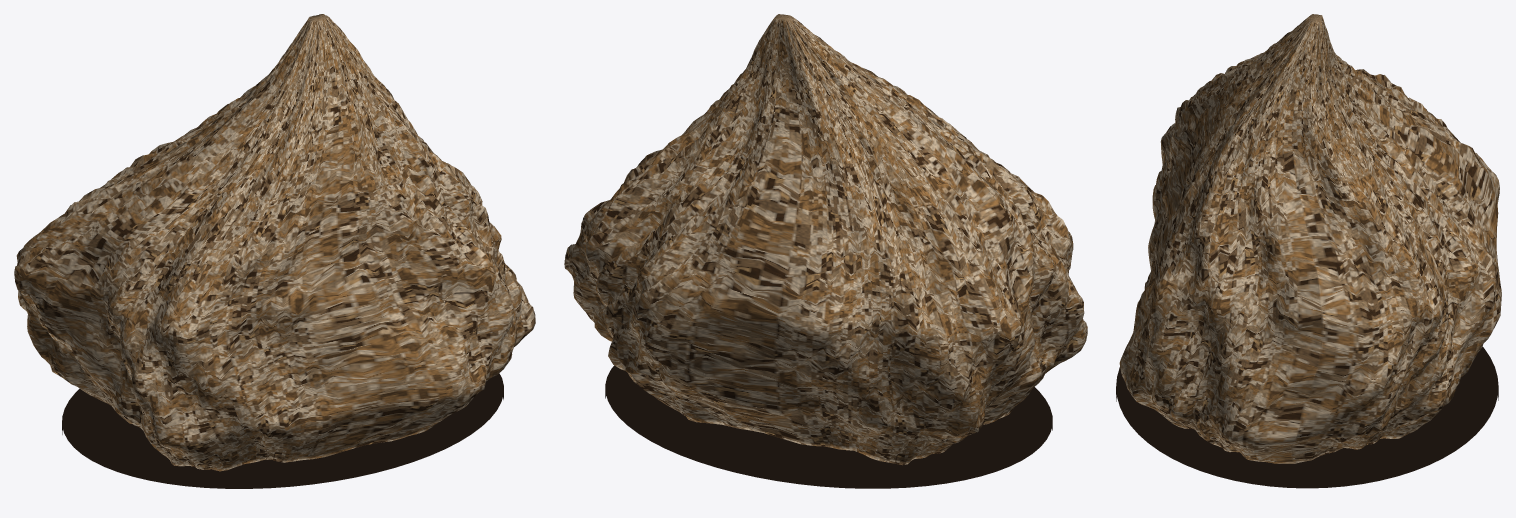
Rendered from lingstone-concept-02-v19.glb.
3 views of the same model, side by side, from view 1: azimuth 30°, elevation 25°; view 2: azimuth 150°, elevation 25°; view 3: azimuth 270°, elevation 25° (orthographic). The views are drawn at different scales.
Visible parts, largest first — view 1: XY-CONCEPT-002 concept stone, Concept display plinth; view 2: XY-CONCEPT-002 concept stone, Concept display plinth; view 3: XY-CONCEPT-002 concept stone, Concept display plinth.
Part boxes in pixels (bbox=[...]): XY-CONCEPT-002 concept stone: bbox=[14, 14, 535, 471]; Concept display plinth: bbox=[62, 373, 503, 488]; XY-CONCEPT-002 concept stone: bbox=[564, 14, 1087, 465]; Concept display plinth: bbox=[605, 365, 1052, 488]; XY-CONCEPT-002 concept stone: bbox=[1119, 14, 1501, 463]; Concept display plinth: bbox=[1116, 346, 1498, 488].
Size of the model in its own units: 1.59 by 1.3 by 1.12.
2 materials, 1 textured.
